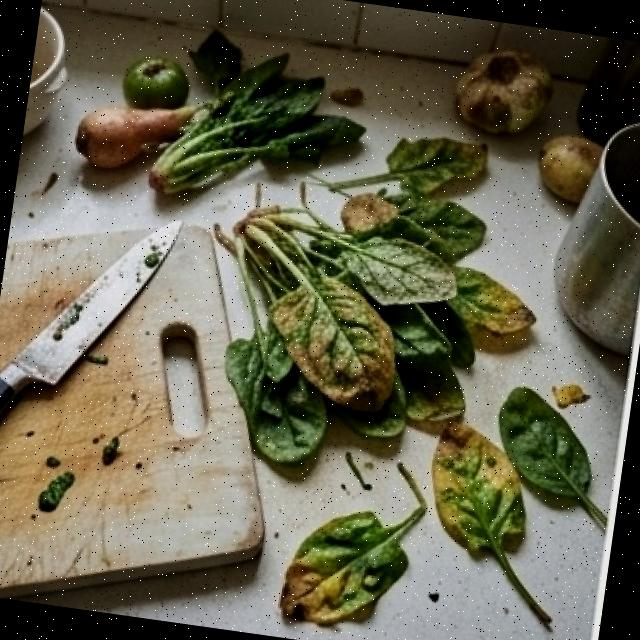rotten spinach: (132, 75, 578, 512), (372, 366, 590, 598)
